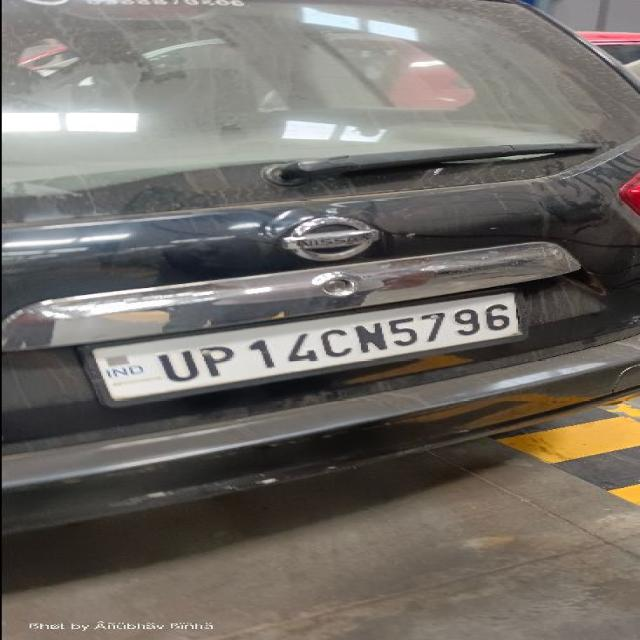license_plate: (75, 287, 530, 409)
